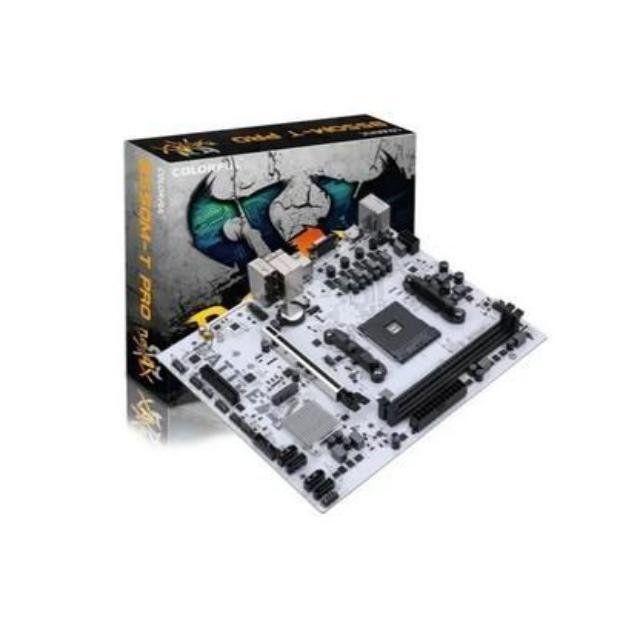Mainboard: (159, 200, 550, 508)
